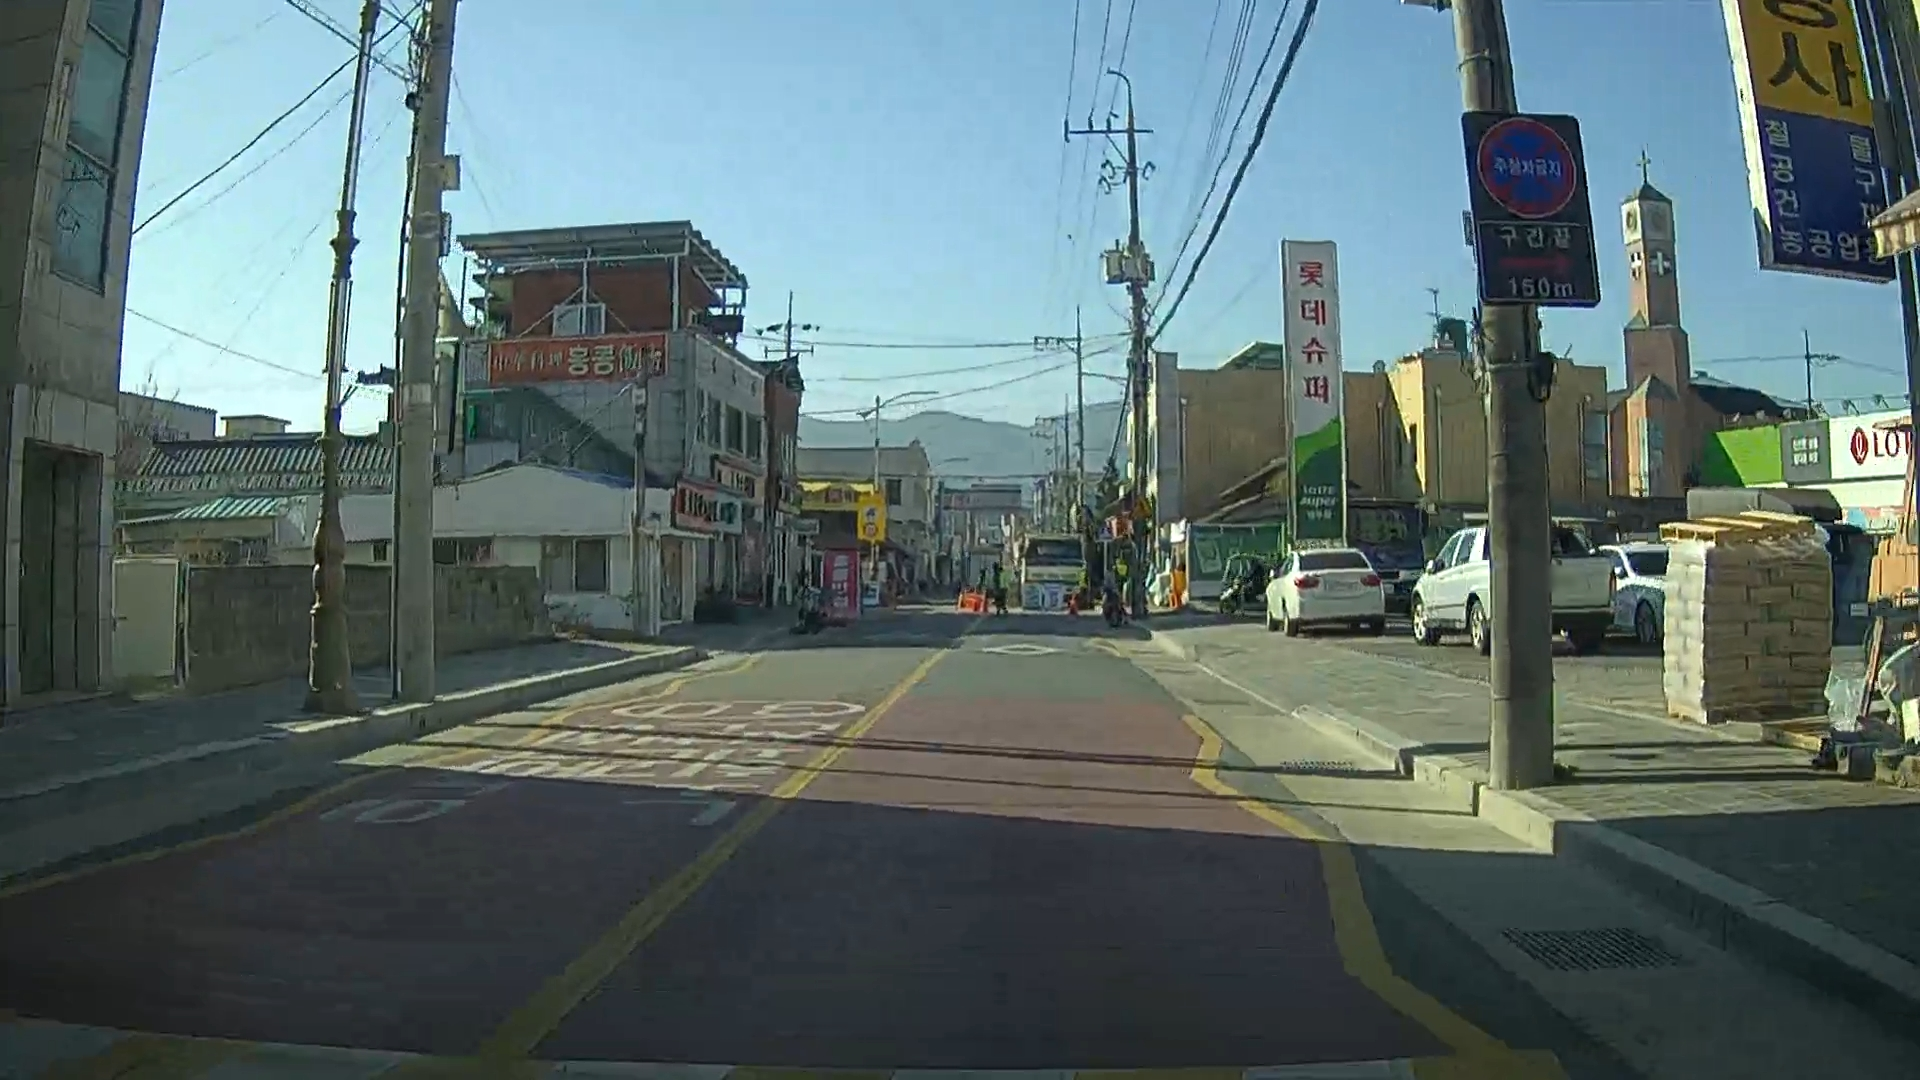trafficSignRTG: (1461, 107, 1604, 307)
